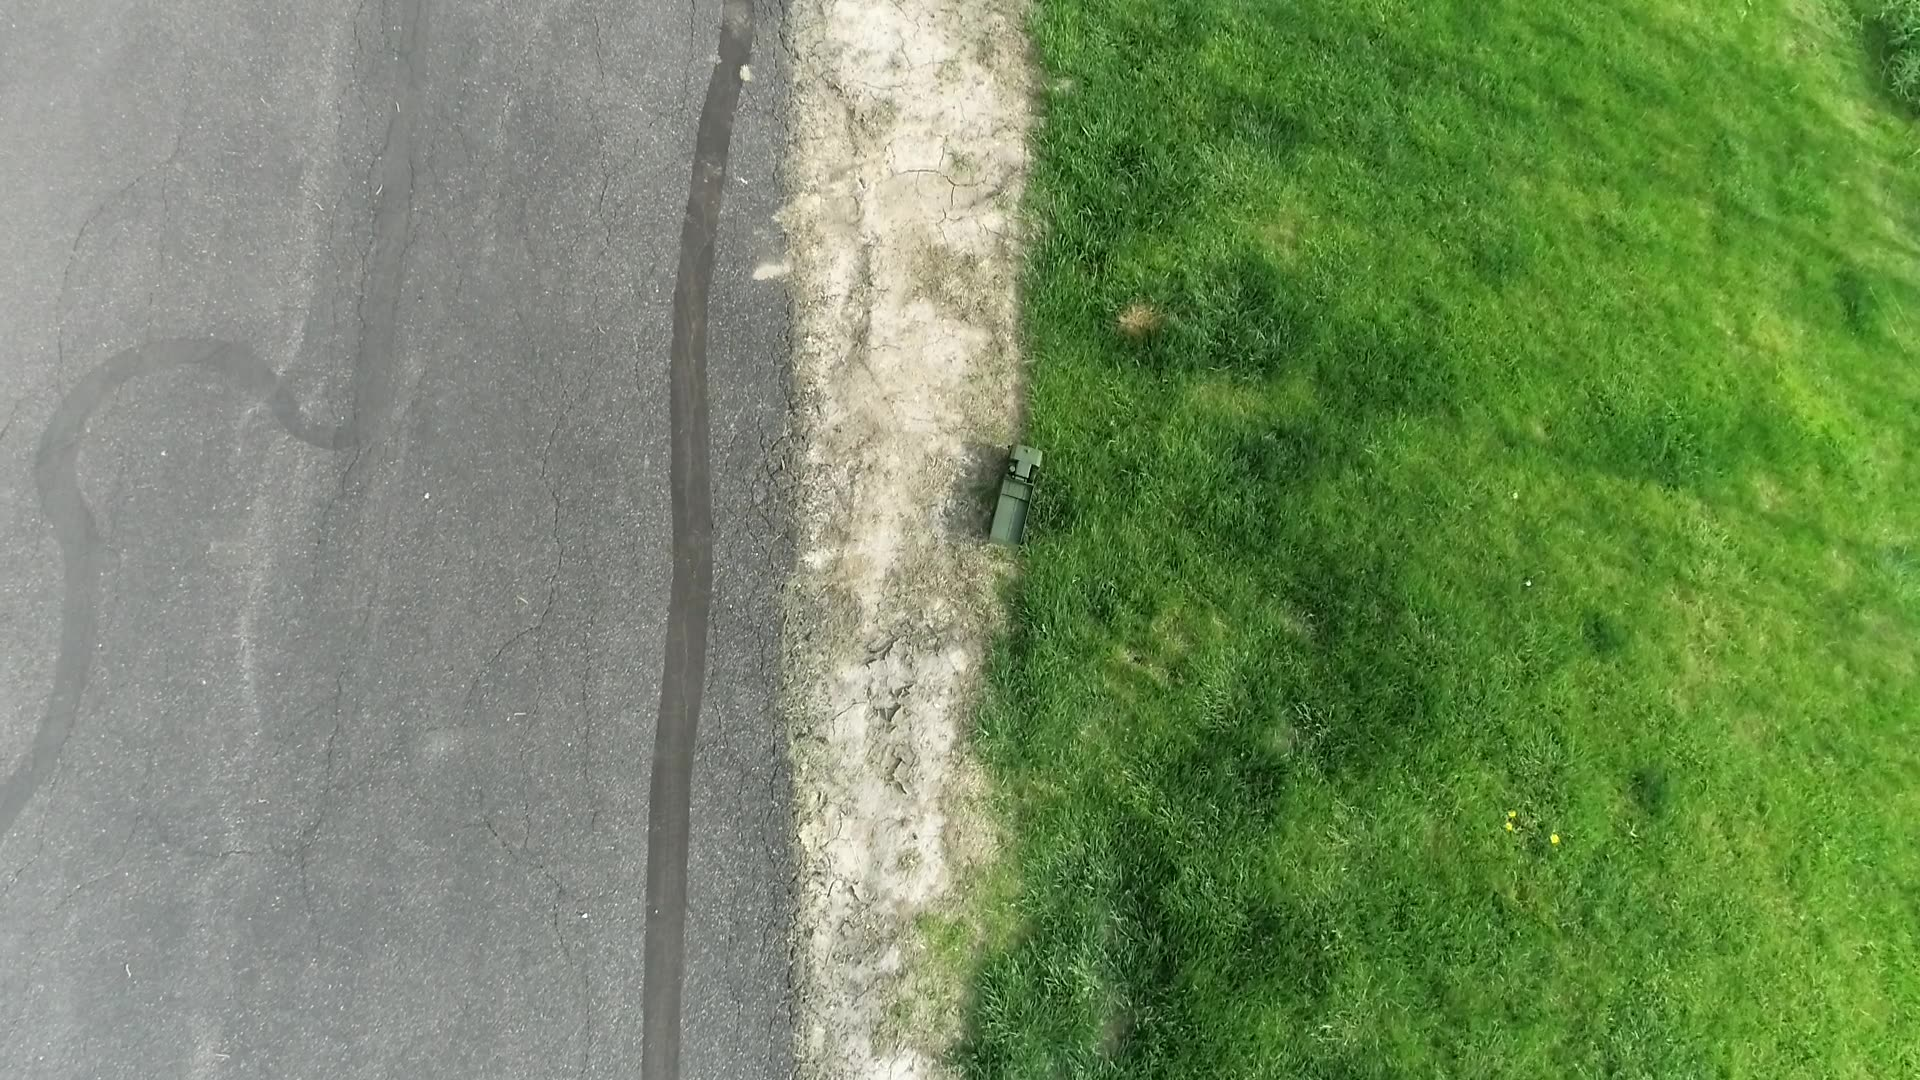transporter9: (980, 438, 1052, 554)
